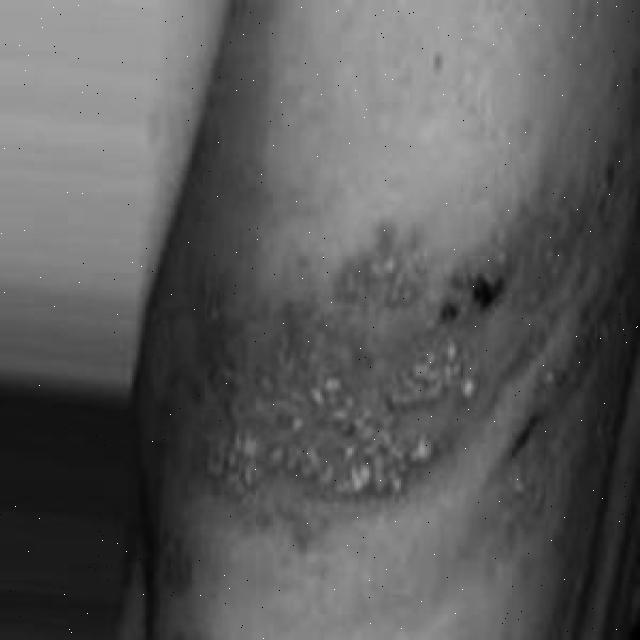Shingles: (155, 251, 478, 497)
